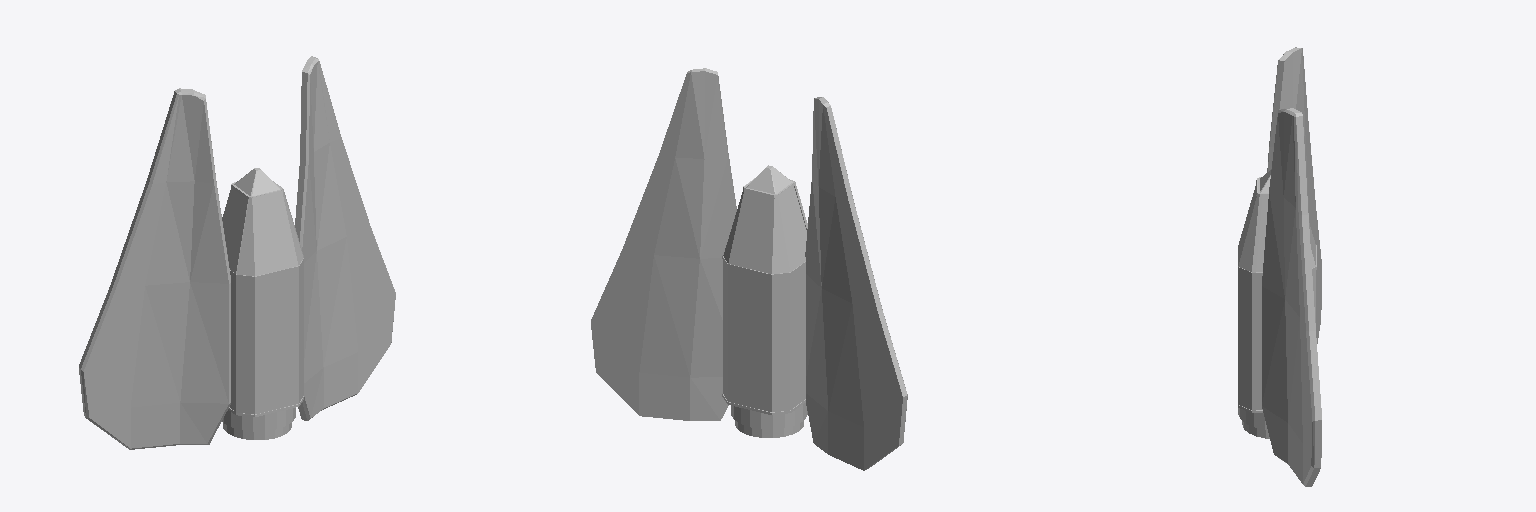
The model's file is Player_Ship.obj.
The picture shows the model from 3 angles: view 1: azimuth 30°, elevation 25°; view 2: azimuth 150°, elevation 25°; view 3: azimuth 270°, elevation 25°; orthographic projection.
Visible parts, largest first — view 1: Player_Ship.001; view 2: Player_Ship.001; view 3: Player_Ship.001.
Boxes of the visible parts, x1=… form: Player_Ship.001: x1=79, y1=56, x2=395, y2=449; Player_Ship.001: x1=591, y1=68, x2=907, y2=470; Player_Ship.001: x1=1238, y1=47, x2=1321, y2=486.
Bounding box in the file's own units: 2.9 × 3.09 × 0.6758.